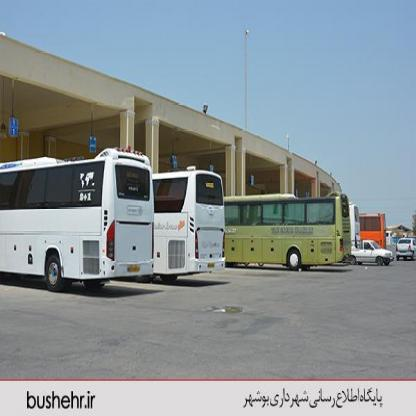Bus: (0, 138, 155, 286), (223, 190, 352, 263), (153, 162, 231, 280)
Car: (350, 239, 397, 266), (394, 236, 416, 262)
